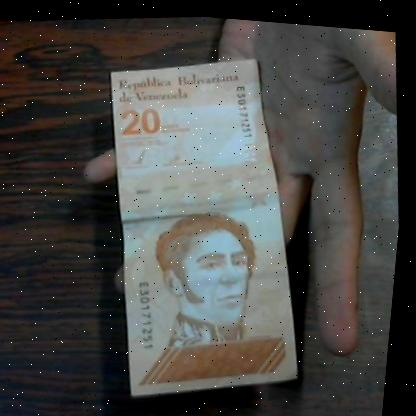twenty-front-vef: (89, 43, 328, 405)
